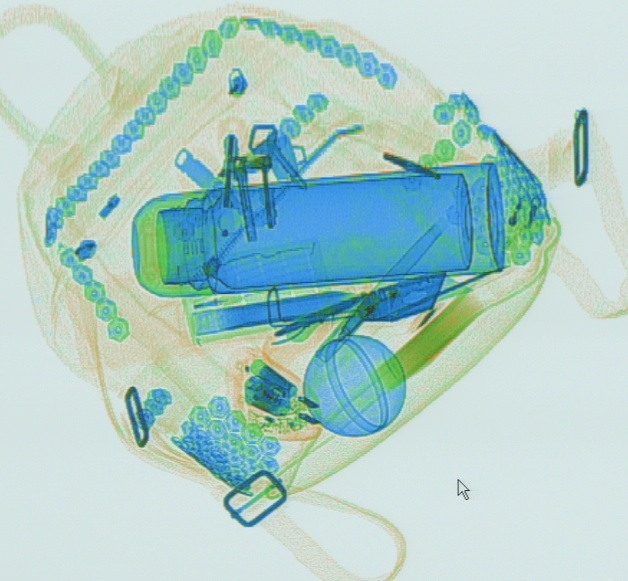knife: (260, 271, 475, 365)
